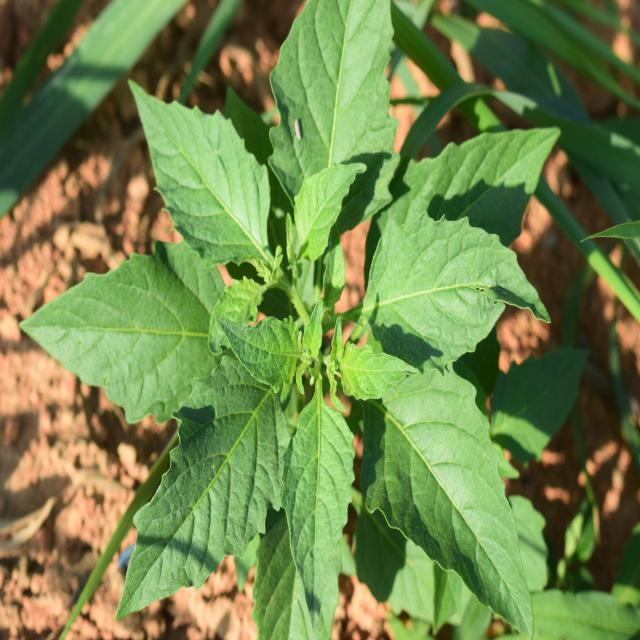Black_nightshade: (96, 28, 544, 616)
